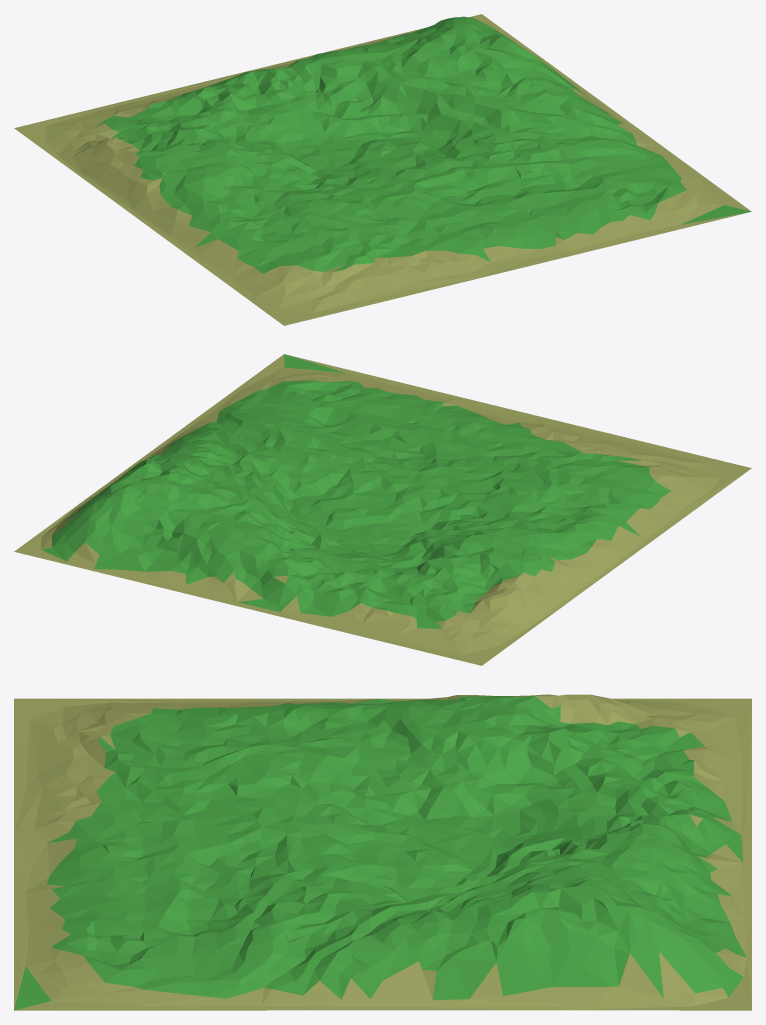
File: game_terrain_2.glb
The picture shows the model from 3 angles, top to bottom: view 1: azimuth 30°, elevation 25°; view 2: azimuth 150°, elevation 25°; view 3: azimuth 270°, elevation 25°; orthographic projection. The views are drawn at different scales.
Parts seen in each view (by area): view 1: Landscape.002; view 2: Landscape.002; view 3: Landscape.002.
Boxes of the visible parts, x1,y1,x2,y2 form: Landscape.002: [14, 14, 751, 325]; Landscape.002: [14, 354, 751, 665]; Landscape.002: [14, 694, 751, 1010].
Bounding box in the file's own units: 2 × 0.1953 × 2.
